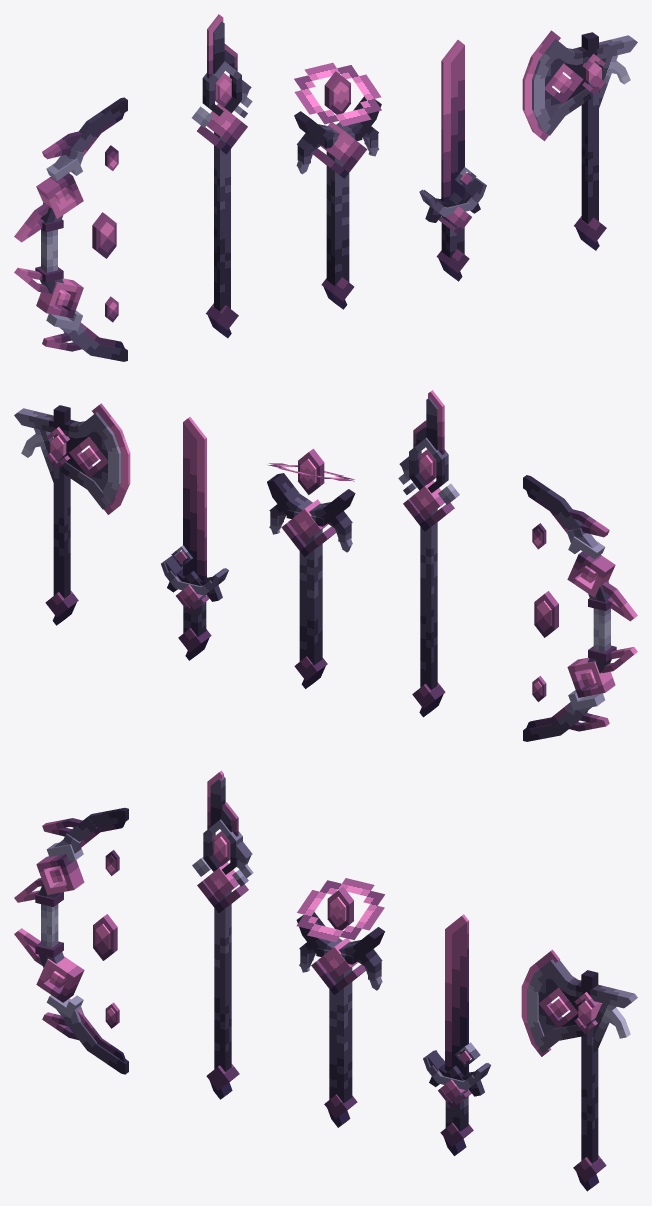
Rendered from Dark Queen.gltf.
3 views of the same model, one above another, from view 1: azimuth 30°, elevation 25°; view 2: azimuth 150°, elevation 25°; view 3: azimuth 330°, elevation 25° (orthographic).
Visible parts, largest first — view 1: cube (×11); view 2: cube (×10); view 3: cube (×10).
Part boxes in pixels (x1,y1,x2,y2): cube (×11): (41, 32, 630, 311); cube (×10): (21, 405, 610, 690); cube (×10): (41, 862, 629, 1163).
Bounding box in the file's own units: 5.35 × 2.68 × 0.5774.
Materials: 5 (5 with a texture image).
